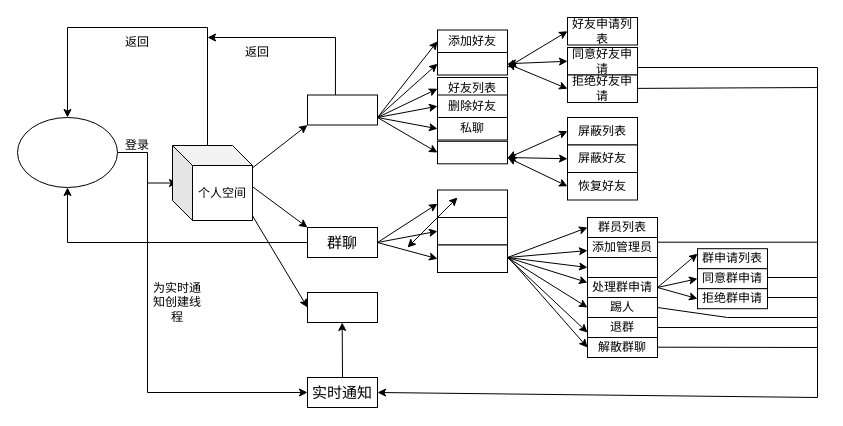
Image size: 843x426. Some labels were removed from this diagram. The shapes that lost their labels are listed below. From the top down, each one's centre as x and y in pixels, then its label:
At pixel 472 63: "好友申请".
At pixel 342 109: "好友".
At pixel 67 152: "主界面".
At pixel 472 152: "屏蔽".
At pixel 472 203: "添加群聊".
At pixel 472 230: "群聊列表".
At pixel 472 258: "进入群聊".
At pixel 622 267: "取消管理员".
At pixel 342 307: "未读消息".
